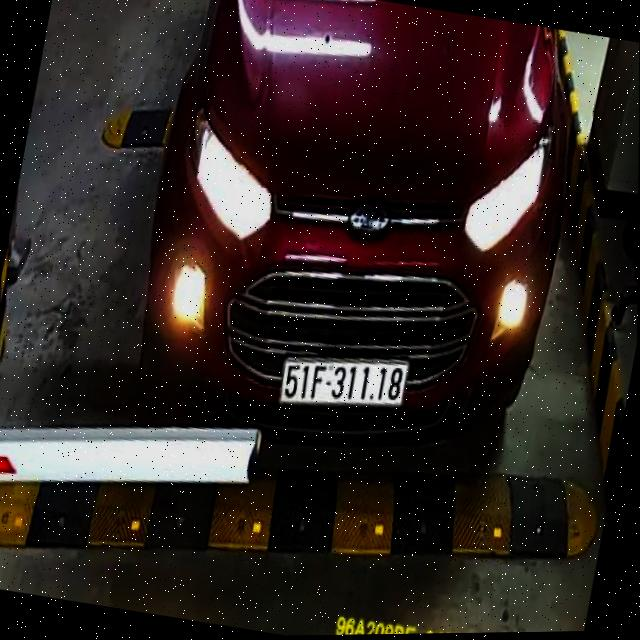car: (108, 0, 603, 490)
plate: (273, 342, 414, 427)
